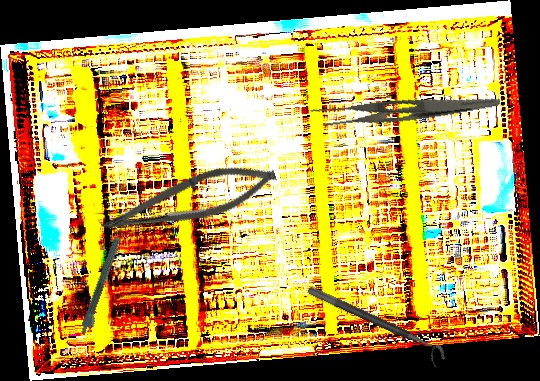Dressing Forceps: (309, 77, 502, 137)
Fixation Ring: (301, 284, 450, 371)
Handpiece: (79, 222, 131, 337)
Micro Scissor: (95, 149, 282, 254)
